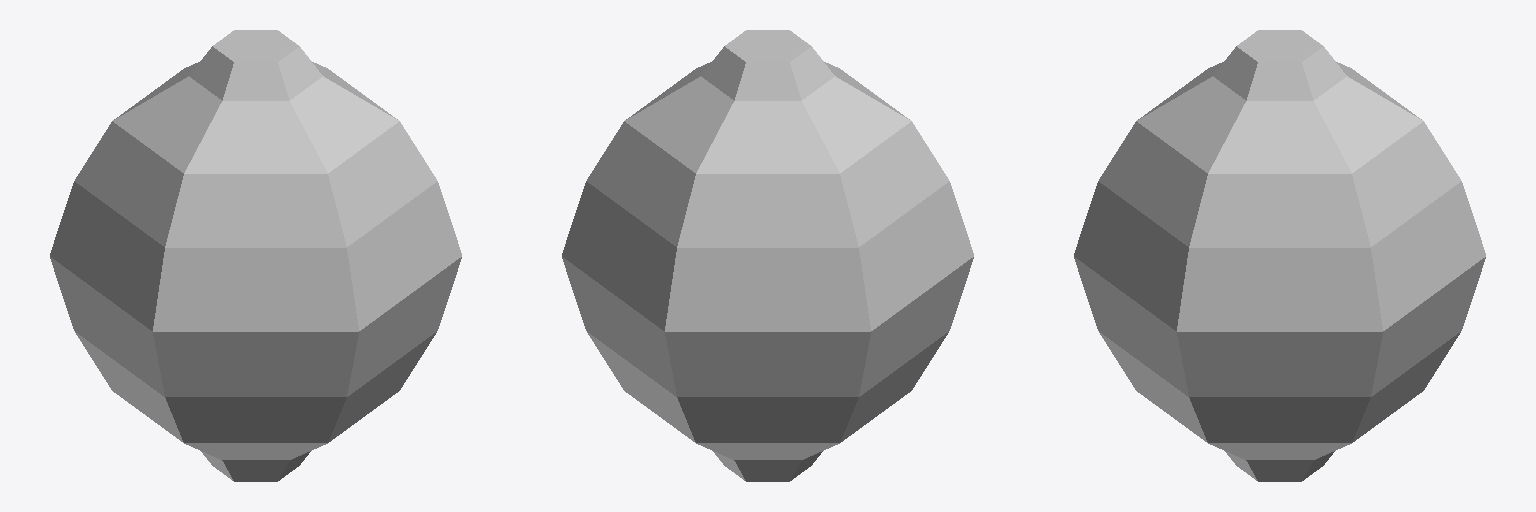
File: lemon.obj
The picture shows the model from 3 angles: view 1: azimuth 30°, elevation 25°; view 2: azimuth 150°, elevation 25°; view 3: azimuth 270°, elevation 25°; orthographic projection.
Visible parts, largest first — view 1: lemon; view 2: lemon; view 3: lemon.
Boxes of the visible parts, x1,y1,x2,y2 form: lemon: [50, 30, 461, 481]; lemon: [562, 30, 973, 481]; lemon: [1074, 30, 1485, 481].
Bounding box in the file's own units: 0.1732 × 0.224 × 0.2.